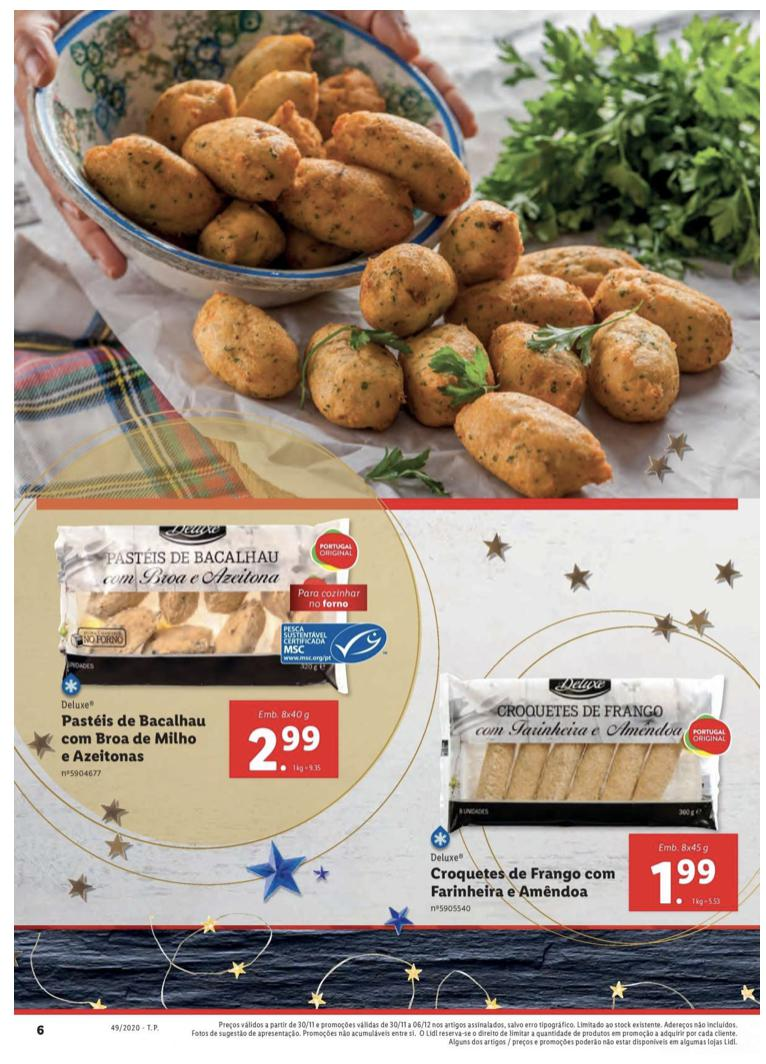name: (58, 708, 216, 767), (429, 861, 620, 903)
price: (642, 853, 723, 904), (246, 723, 323, 774)
product: (33, 503, 391, 788), (426, 661, 747, 920)
